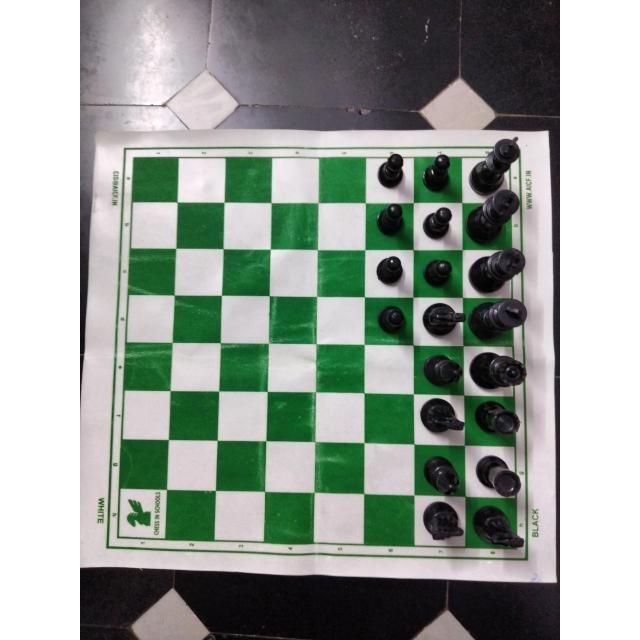black-bishop: (419, 445, 464, 497), (416, 348, 464, 392)
black-king: (467, 134, 524, 200), (463, 244, 529, 294), (466, 295, 530, 345), (465, 191, 515, 245)
black-knight: (470, 498, 528, 558), (415, 498, 469, 546), (417, 393, 468, 437), (416, 297, 465, 337)
black-pawn: (421, 149, 457, 197), (421, 250, 459, 292), (373, 199, 409, 241), (416, 205, 454, 243), (372, 303, 412, 339), (370, 153, 407, 191), (372, 250, 406, 286)
black-queen: (469, 348, 529, 392)
black-rook: (472, 451, 529, 501), (473, 395, 525, 441)
